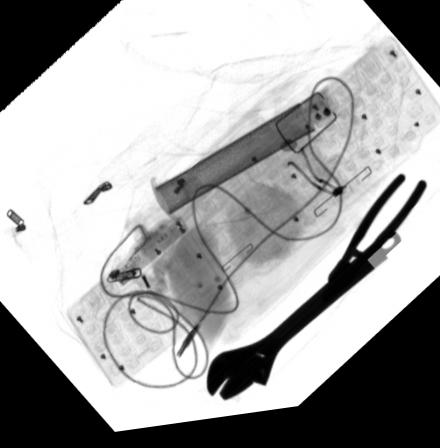Pliers: (330, 182, 430, 305)
Wrench: (204, 240, 404, 407)
